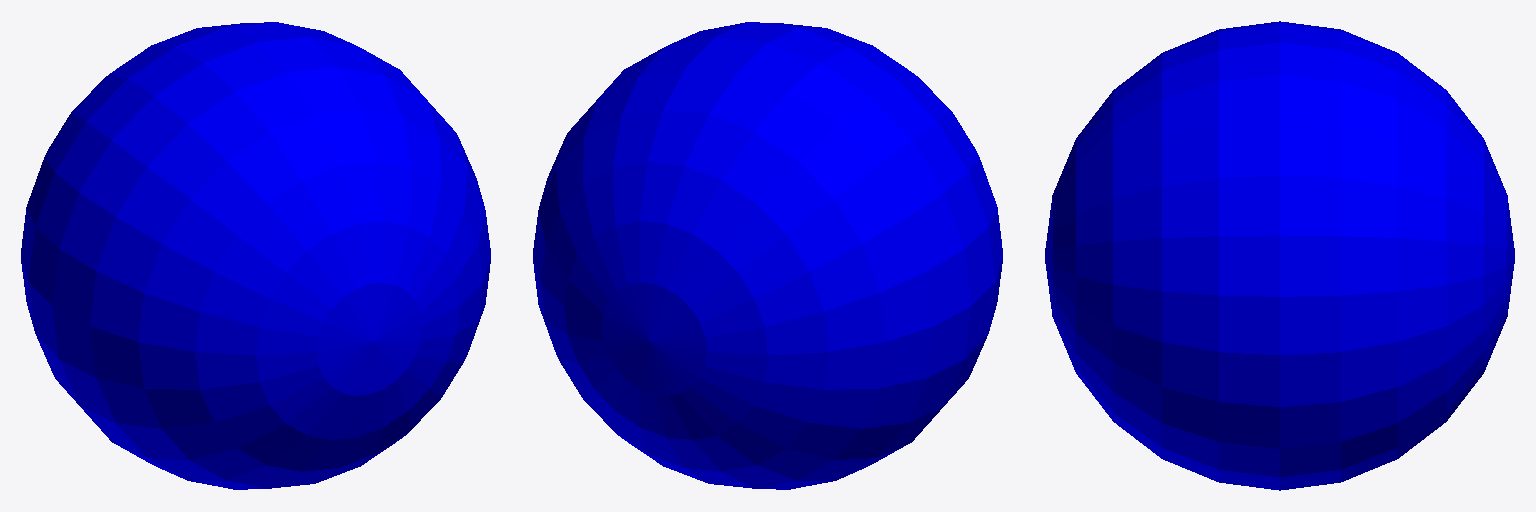
The picture shows the model from 3 angles: view 1: azimuth 30°, elevation 25°; view 2: azimuth 150°, elevation 25°; view 3: azimuth 270°, elevation 25°; orthographic projection.
Parts seen in each view (by area): view 1: solid1_4, top__2_1_5; view 2: solid1_4, top__2_1_5; view 3: solid1_4, top__2_1_5.
Part boxes in pixels (bbox=[...]): solid1_4: bbox=[21, 23, 490, 488]; top__2_1_5: bbox=[156, 22, 355, 107]; solid1_4: bbox=[533, 23, 1002, 488]; top__2_1_5: bbox=[668, 22, 867, 107]; solid1_4: bbox=[1045, 21, 1514, 490]; top__2_1_5: bbox=[1180, 22, 1379, 107].
Bounding box in the file's own units: 2.25 × 2.25 × 2.25.